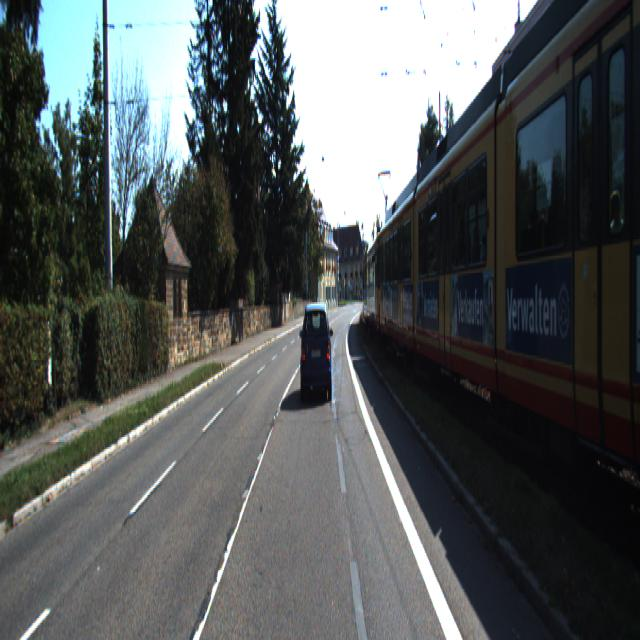Car: (490, 0, 639, 557), (411, 66, 564, 444), (379, 174, 451, 379), (366, 223, 402, 347), (300, 298, 333, 404), (364, 246, 384, 334)
